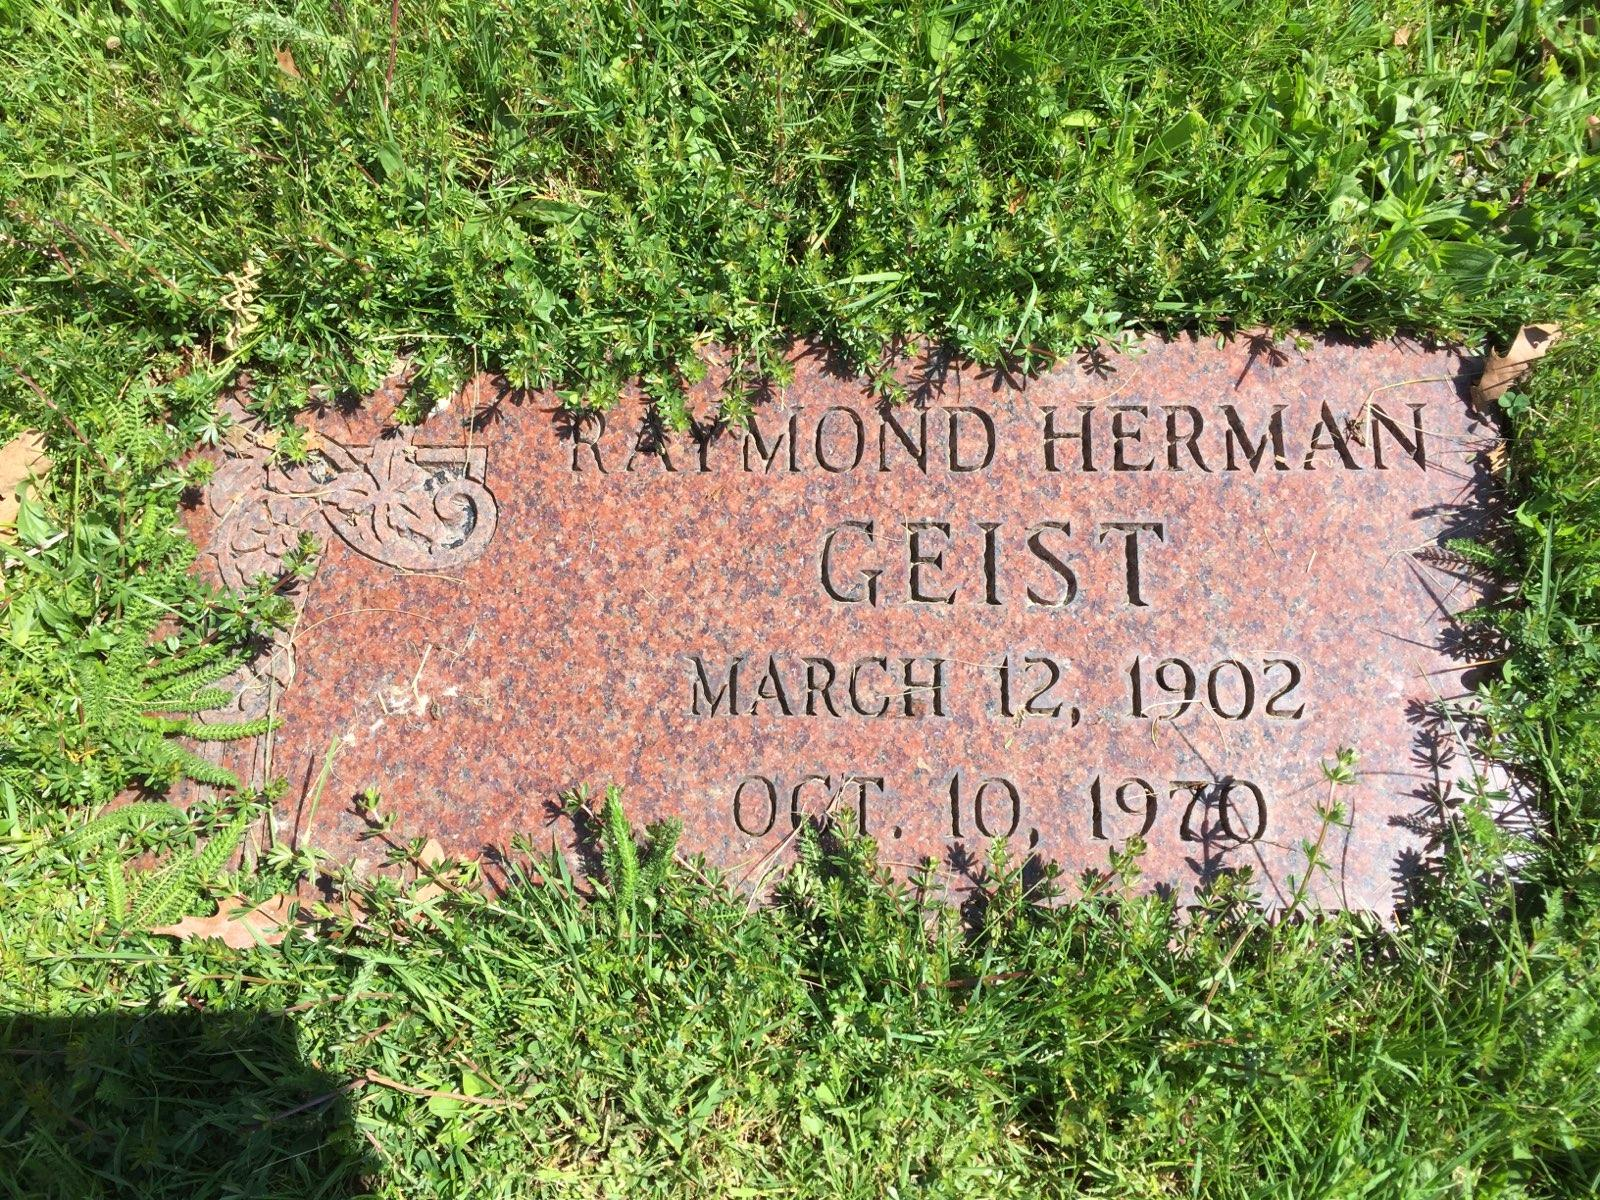flat: (183, 282, 1560, 948)
